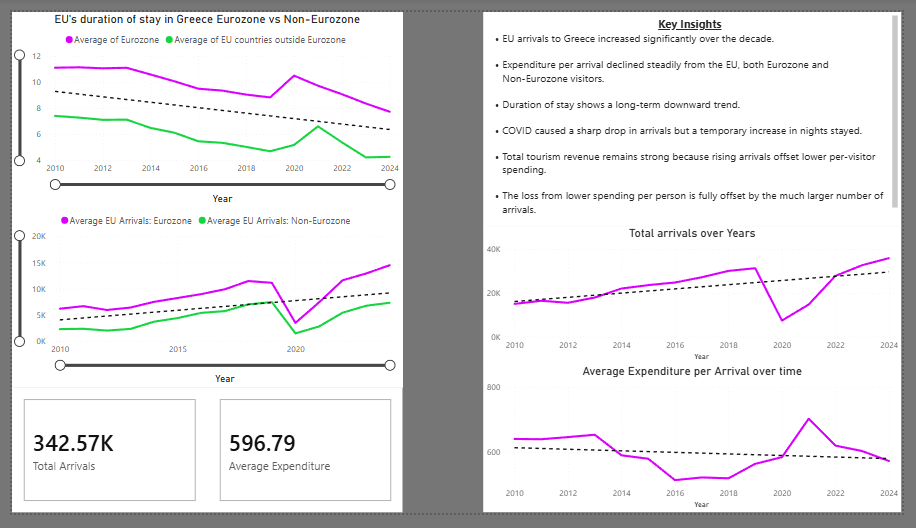

Layout of this report page (visuals, bound fields, positions):
{"tool":"powerbi","page":{"name":"Page 1","canvas":[1280,720],"ordinal":0},"visuals":[{"type":"lineChart","title":"EU arrivals in Greece Eurozone vs Non-Eurozone","fields":{"Category":["Arrivals by Country of Origin.Year"],"Y":["Avg(Arrivals by Country of Origin.Eurozone )","Avg(Arrivals by Country of Origin.EU countries outside Eurozone)"]},"box":[0,260,561.7,280],"z":0},{"type":"cardVisual","fields":{"Data":["Sum(Arrivals by Country of Origin.Total arrivals**)"]},"box":[0,540,281.7,180],"z":1000},{"type":"lineChart","title":"EU''s duration of stay in Greece Eurozone vs Non-Eurozone","fields":{"Category":["Aver  Duration of Stay.Year"],"Y":["Avg(Aver  Duration of Stay.Eurozone )","Avg(Aver  Duration of Stay.EU countries outside Eurozone)"]},"box":[0,0,561.7,280],"z":2000},{"type":"cardVisual","title":"pi","fields":{"Data":["Avg(Aver Expenditure per Journey.Total arrivals**)"]},"box":[281.7,540,280,180],"z":3000},{"type":"lineChart","title":"Average Expenditure per Arrival over time","fields":{"Category":["Aver Expenditure per Journey.Year"],"Y":["Sum(Aver Expenditure per Journey.Total arrivals**)"]},"box":[678.3,506.7,601.7,213.3],"z":4000},{"type":"lineChart","title":"Total arrivals over Years","fields":{"Y":["Sum(Arrivals by Country of Origin.Total arrivals**)"],"Category":["Arrivals by Country of Origin.Year"]},"box":[678.3,308.3,601.7,198.3],"z":5000},{"type":"textbox","box":[678.3,0,601.7,308.3],"z":6000}]}

Visuals, with their boxes in screenshot pixels (x1, y1, x2, y2), scaled from the page's 1280x720 canvas onto the 916x528 screenshot:
"EU arrivals in Greece Eurozone vs Non-Eurozone" lineChart: [0, 191, 402, 396]
cardVisual - Sum(Arrivals by Country of Origin.Total arrivals**): [0, 396, 202, 527]
"EU''s duration of stay in Greece Eurozone vs Non-Eurozone" lineChart: [0, 0, 402, 205]
"pi" cardVisual: [202, 396, 402, 527]
"Average Expenditure per Arrival over time" lineChart: [485, 372, 915, 527]
"Total arrivals over Years" lineChart: [485, 226, 915, 372]
textbox: [485, 0, 915, 226]
